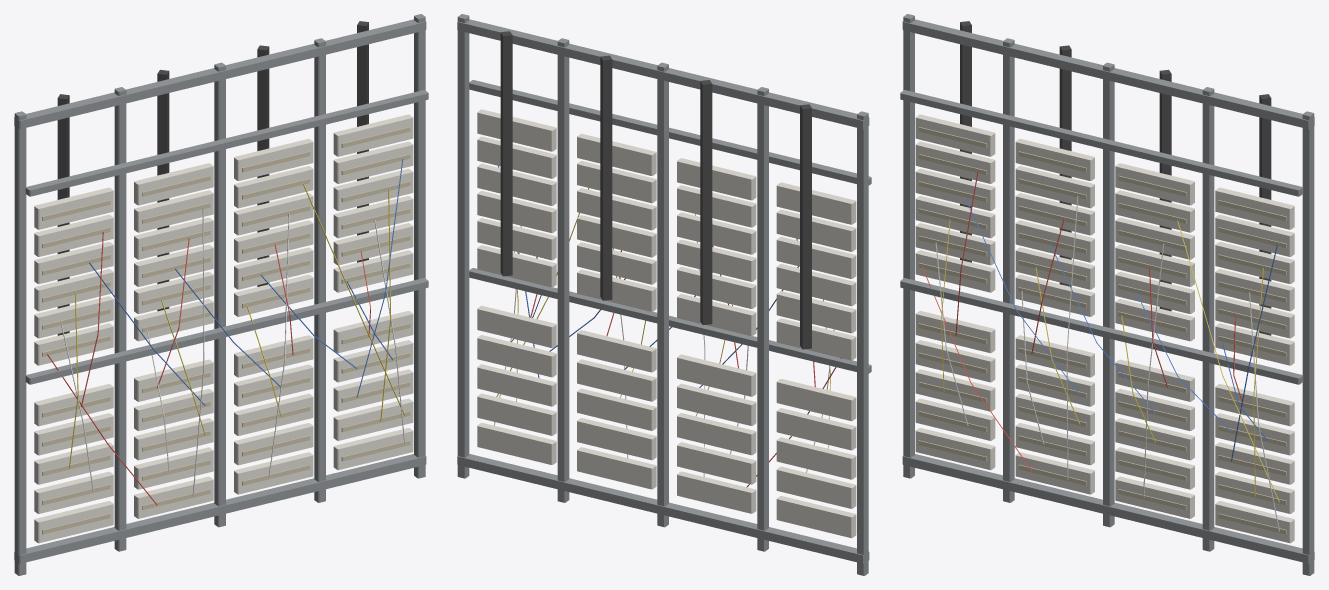
Rendered from distribuidor-geral.fbx.
3 renders of one model, left to right at view 1: azimuth 30°, elevation 25°; view 2: azimuth 150°, elevation 25°; view 3: azimuth 330°, elevation 25°, orthographic.
Parts seen in each view (by area): view 1: Distribuidor geral; view 2: Distribuidor geral; view 3: Distribuidor geral.
Part boxes in pixels (bbox=[...]): Distribuidor geral: bbox=[14, 14, 428, 575]; Distribuidor geral: bbox=[457, 14, 871, 575]; Distribuidor geral: bbox=[900, 14, 1314, 575].
Size of the model in its own units: 2.04 by 2.2 by 0.2025.
1 material, 1 textured.
